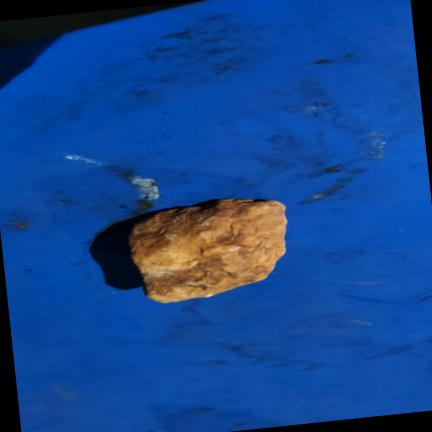Rocks: (128, 199, 286, 301)
